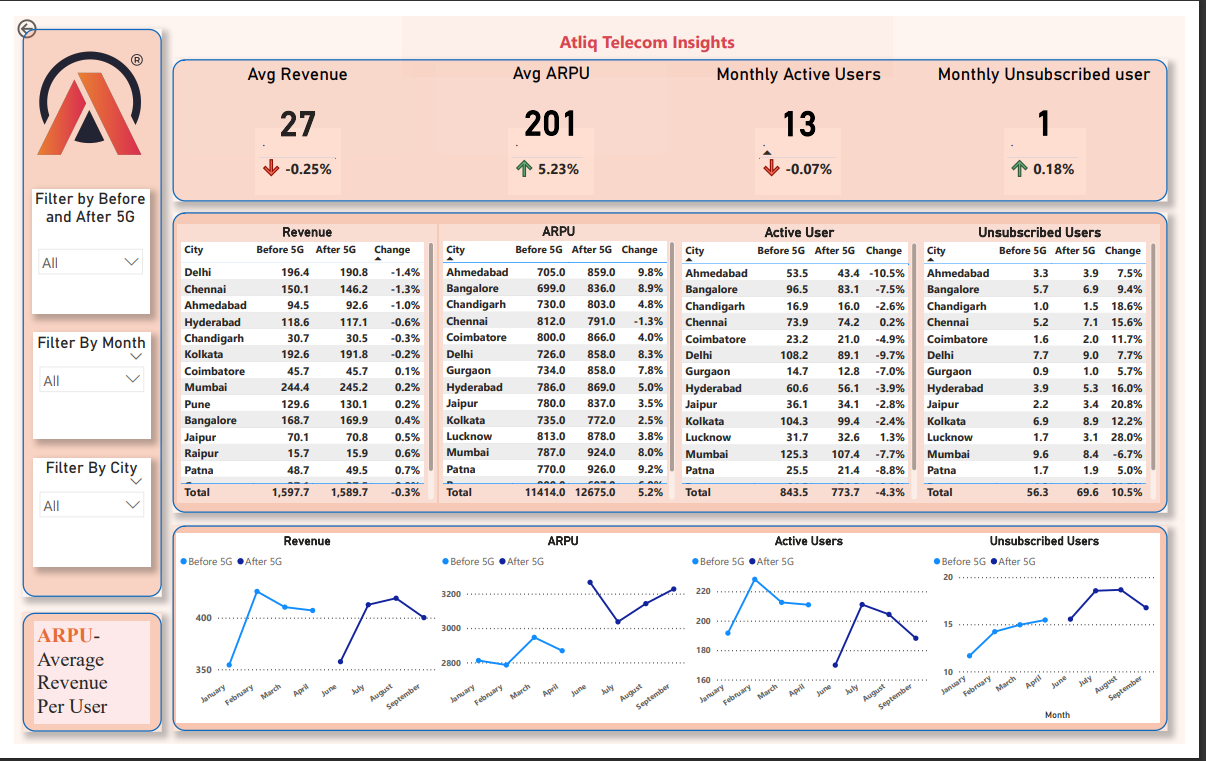

The page's visual inventory and layout, read from the dashboard file:
{"tool":"powerbi","page":{"name":"Dashboard 1","canvas":[1850,1150],"ordinal":0},"visuals":[{"type":"actionButton","box":[0,0,100,40],"z":0},{"type":"shape","box":[250,67.5,1572.5,225],"z":0,"group":"g4"},{"type":"shape","box":[12.5,942.5,220,187.5],"z":0,"group":"g3"},{"type":"shape","box":[12.5,20,220,897.5],"z":1000},{"type":"tableEx","fields":{"Values":["Measures table.Monthly User CHANGE3"]},"box":[1172.4,176.8,135.1,104.7],"z":1000,"group":"g4"},{"type":"tableEx","fields":{"Values":["Measures table.ARPU Change for icon"]},"box":[781.2,176.8,135.1,104.7],"z":2000,"group":"g4"},{"type":"slicer","title":"Filter By Month","fields":{"Values":["dim_date.Month Name"]},"box":[30,500,185,167.5],"z":2000},{"type":"tableEx","fields":{"Values":["Measures table.Unsubscribed Monthly Users Icon change"]},"box":[1564,176.8,128.6,104.7],"z":3000,"group":"g4"},{"type":"slicer","title":"Filter By City","fields":{"Values":["dim_cities.city_name"]},"box":[30,697.5,185,172.5],"z":3000},{"type":"card","title":"Monthly Unsubscribed user","fields":{"Values":["Measures table.Monthly unsubscribed Users"]},"box":[1446.4,74.3,363.9,142.4],"z":4000,"group":"g4"},{"type":"slicer","title":"Filter by Before and After 5G","fields":{"Values":["dim_date.before/after_5g"]},"box":[27.5,272.5,185,197.5],"z":4000},{"type":"shape","box":[250,805,1572.5,324.9],"z":4000,"group":"g1"},{"type":"shape","box":[250,310,1572.5,475],"z":5000,"group":"g2"},{"type":"group","id":"g1","title":"Group 3","box":[250,805,1572.5,325],"z":5000},{"type":"group","id":"g2","title":"Group 4","box":[250,310,1572.5,475],"z":6000},{"type":"tableEx","fields":{"Values":["Measures table.Revenue Change Icon 2"]},"box":[380.5,176.8,135.1,104.7],"z":7000,"group":"g4"},{"type":"group","id":"g3","title":"Group 2","box":[12.5,942.5,220,187.5],"z":7000},{"type":"image","box":[30,25,182.5,222.5],"z":8000},{"type":"card","title":"Avg Revenue","fields":{"Values":["Measures table.Avg Revenue of Atliqo"]},"box":[266.2,74.3,363.9,144.5],"z":8000,"group":"g4"},{"type":"tableEx","title":"Revenue","fields":{"Values":["dim_cities.city_name","Measures table.Revenue Before 5G","Measures table.Revenue After 5G","Measures table.Change revenue"]},"box":[258.4,328.8,409.5,439.7],"z":8000,"group":"g2"},{"type":"textbox","box":[612.5,0,775,95],"z":9000},{"type":"tableEx","title":"ARPU","fields":{"Values":["dim_cities.city_name","Measures table.ARPU Before 5G","Measures table.ARPU After 5G","Measures table.ARPU Change"]},"box":[670,328.8,379.9,439.7],"z":9000,"group":"g2"},{"type":"group","id":"g4","title":"Group 1","box":[250,67.5,1572.5,225],"z":10000},{"type":"card","title":"Avg ARPU","fields":{"Values":["Measures table.AVG Revenue Per User(ARPU)"]},"box":[666.7,73.5,363.9,144.5],"z":10000,"group":"g4"},{"type":"tableEx","title":"Active User","fields":{"Values":["dim_cities.city_name","Measures table.Active Users Before 5G","Measures table.Active Users After 5G","Measures table.Active users change"]},"box":[1050,328.8,382,439.7],"z":10000,"group":"g2"},{"type":"card","title":"Monthly Active Users","fields":{"Values":["Measures table.Monthly Active Users"]},"box":[1058,74.3,363.9,144.5],"z":11000,"group":"g4"},{"type":"tableEx","title":"Unsubscribed Users","fields":{"Values":["dim_cities.city_name","Measures table.Unsubscribed users Before 5G","Measures table.Unsubscribed users After 5G","Measures table.Unsubscribed Use Change"]},"box":[1432,328.8,377.8,439.7],"z":11000,"group":"g2"},{"type":"lineChart","title":"Revenue","fields":{"Category":["dim_date.date.Variation.Date Hierarchy.Month"],"Y":["Measures table.Revenue Before 5G","Measures table.Revenue After 5G"]},"box":[256.3,818.2,413.7,298.4],"z":13000,"group":"g1"},{"type":"lineChart","title":"ARPU","fields":{"Category":["dim_date.date.Variation.Date Hierarchy.Month"],"Y":["Measures table.ARPU Before 5G","Measures table.ARPU After 5G"]},"box":[670,818.2,394.7,298.4],"z":14000,"group":"g1"},{"type":"lineChart","title":"Active Users","fields":{"Y":["Measures table.Active Users Before 5G","Measures table.Active Users After 5G"],"Category":["dim_date.date.Variation.Date Hierarchy.Month"]},"box":[1064.7,818.2,382,298.4],"z":15000,"group":"g1"},{"type":"lineChart","title":"Unsubscribed Users","fields":{"Y":["Measures table.Unsubscribed users Before 5G","Measures table.Unsubscribed users After 5G"],"Category":["dim_date.date.Variation.Date Hierarchy.Month"]},"box":[1446.8,818.2,363,298.4],"z":16000,"group":"g1"},{"type":"textbox","box":[30,955,182.5,162.5],"z":22000,"group":"g3"}]}

Visuals, with their boxes in screenshot pixels (x1, y1, x2, y2), scaled from the page's 1850x1150 canvas onto the 1206x761 screenshot:
actionButton: bbox(0, 0, 65, 26)
shape: bbox(163, 45, 1188, 194)
shape: bbox(8, 624, 152, 748)
shape: bbox(8, 13, 152, 607)
tableEx - Measures table.Monthly User CHANGE3: bbox(764, 117, 852, 186)
tableEx - Measures table.ARPU Change for icon: bbox(509, 117, 597, 186)
"Filter By Month" slicer: bbox(20, 331, 140, 442)
tableEx - Measures table.Unsubscribed Monthly Users Icon change: bbox(1020, 117, 1103, 186)
"Filter By City" slicer: bbox(20, 462, 140, 576)
"Monthly Unsubscribed user" card: bbox(943, 49, 1180, 143)
"Filter by Before and After 5G" slicer: bbox(18, 180, 139, 311)
shape: bbox(163, 533, 1188, 748)
shape: bbox(163, 205, 1188, 519)
"Group 3" group: bbox(163, 533, 1188, 748)
"Group 4" group: bbox(163, 205, 1188, 519)
tableEx - Measures table.Revenue Change Icon 2: bbox(248, 117, 336, 186)
"Group 2" group: bbox(8, 624, 152, 748)
image: bbox(20, 17, 139, 164)
"Avg Revenue" card: bbox(174, 49, 411, 145)
"Revenue" tableEx: bbox(168, 218, 435, 509)
textbox: bbox(399, 0, 904, 63)
"ARPU" tableEx: bbox(437, 218, 684, 509)
"Group 1" group: bbox(163, 45, 1188, 194)
"Avg ARPU" card: bbox(435, 49, 672, 144)
"Active User" tableEx: bbox(684, 218, 934, 509)
"Monthly Active Users" card: bbox(690, 49, 927, 145)
"Unsubscribed Users" tableEx: bbox(934, 218, 1180, 509)
"Revenue" lineChart: bbox(167, 541, 437, 739)
"ARPU" lineChart: bbox(437, 541, 694, 739)
"Active Users" lineChart: bbox(694, 541, 943, 739)
"Unsubscribed Users" lineChart: bbox(943, 541, 1180, 739)
textbox: bbox(20, 632, 139, 739)
